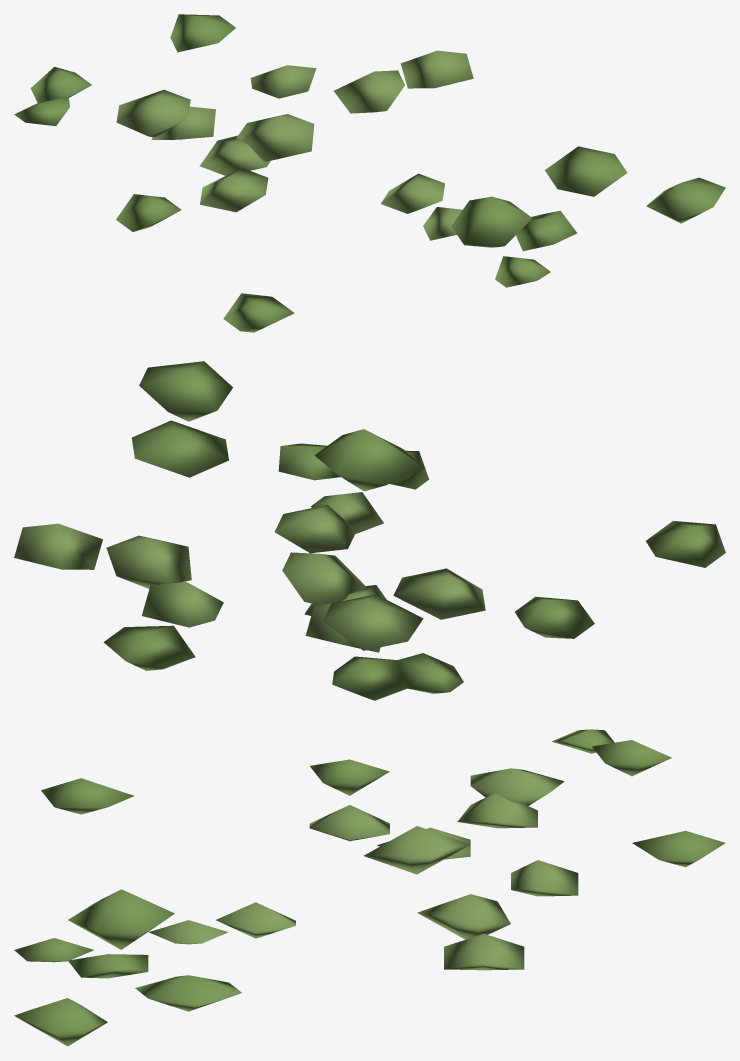
Rendered from canopy-2-0--10.glb.
3 views of the same model, one above another, from view 1: azimuth 30°, elevation 25°; view 2: azimuth 150°, elevation 25°; view 3: azimuth 270°, elevation 25° (orthographic). The views are drawn at different scales.
Bounding box in the file's own units: 122 × 20 × 132.
1 material, 1 textured.
